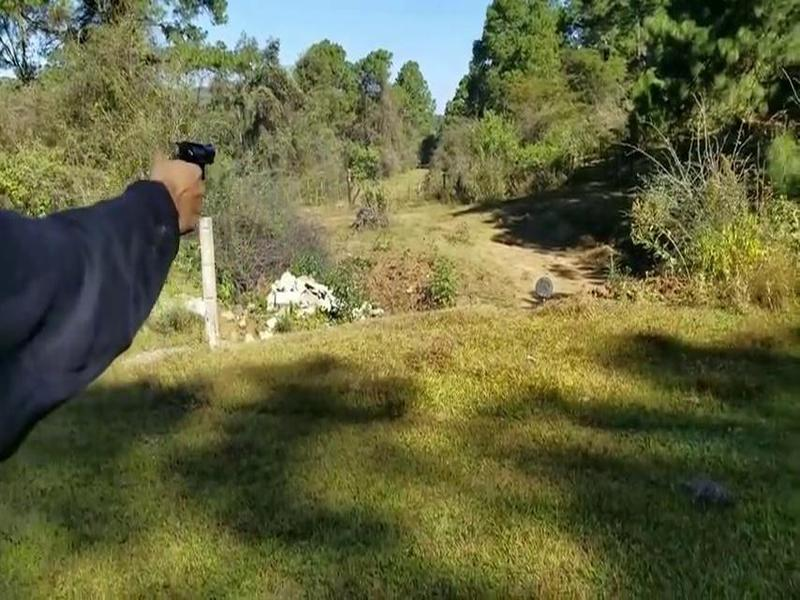Revolver: (156, 116, 230, 200)
